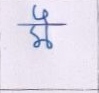ai_matra: (32, 5, 53, 23)
